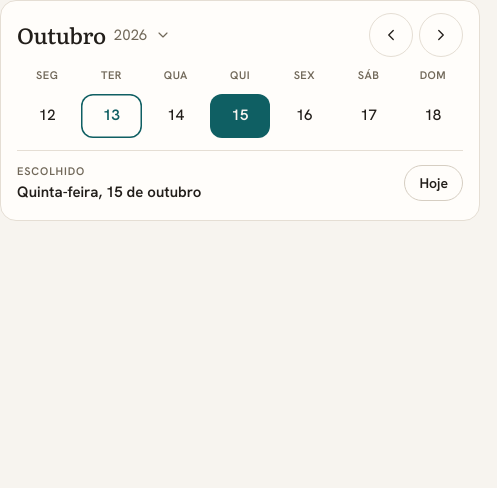
Test: DatePicker › o mês abre sobre a semana, as setas trocam o mês e escolher recolhe
Click the button "Outubro 2026": [94, 35] box [7, 13, 182, 57]
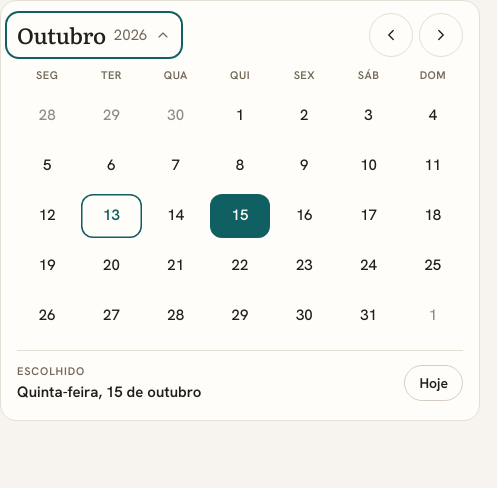
expect the button "Outubro 2026" is expanded: met, box [7, 13, 182, 57]
Click the button named "Próximo mês": [441, 35] box [419, 13, 463, 57]
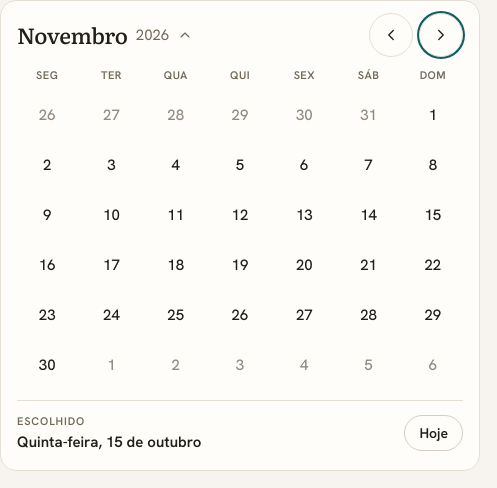
expect the button "Novembro 2026" is shown: met, box [7, 13, 203, 57]
Click the cell named ", 3 de novembro": [111, 165] box [107, 155, 116, 175]
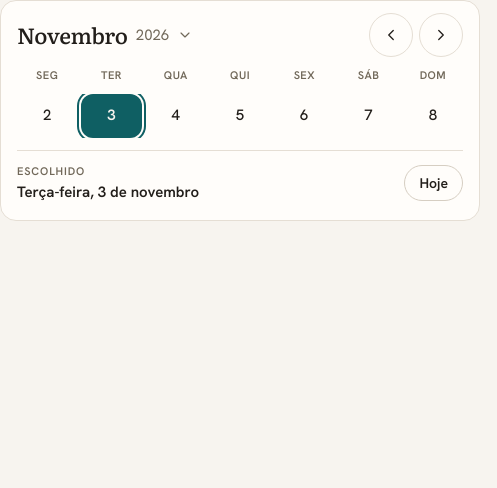
expect the button "Novembro 2026" is collapsed: met, box [7, 13, 203, 57]
